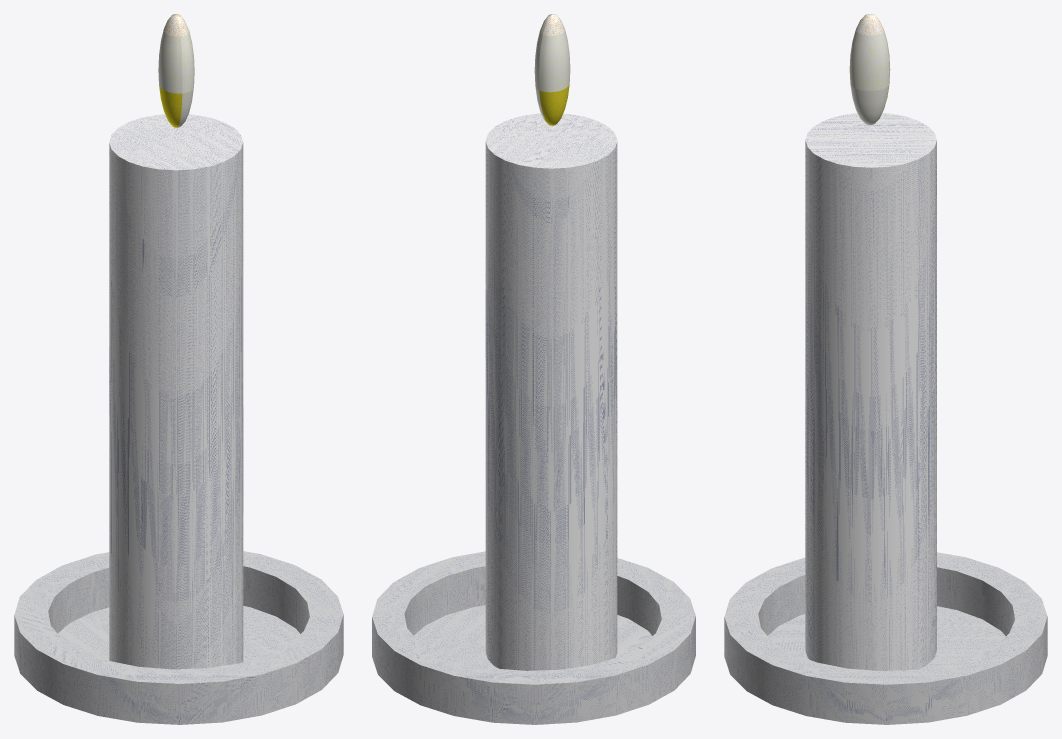
File: Candlemodel.dae
The picture shows the model from 3 angles, left to right: view 1: azimuth 30°, elevation 25°; view 2: azimuth 150°, elevation 25°; view 3: azimuth 270°, elevation 25°; orthographic projection.
Visible parts, largest first — view 1: SketchUp (×5); view 2: SketchUp (×5); view 3: SketchUp (×5).
Part boxes in pixels (x1,y1,x2,y2): SketchUp (×5): [14, 30, 343, 724]; SketchUp (×5): [372, 29, 695, 724]; SketchUp (×5): [724, 31, 1047, 724].
Size of the model in its own units: 88.97 by 88.97 by 194.
